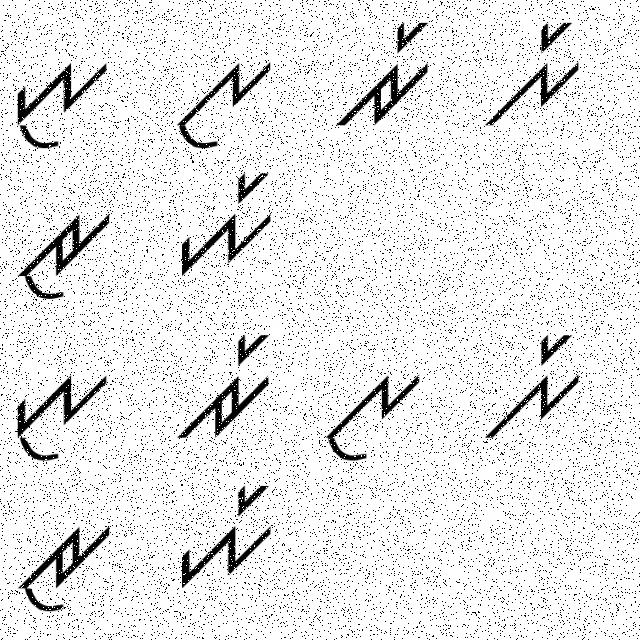lar: (480, 324, 588, 452), (477, 19, 589, 137)
law: (170, 56, 278, 155), (324, 364, 428, 466)
rar: (170, 326, 282, 446), (331, 17, 437, 135)
raw: (12, 512, 118, 620), (8, 203, 116, 307)
yar: (167, 481, 280, 593), (172, 162, 276, 278)
yaw: (12, 49, 118, 159), (13, 364, 115, 469)
